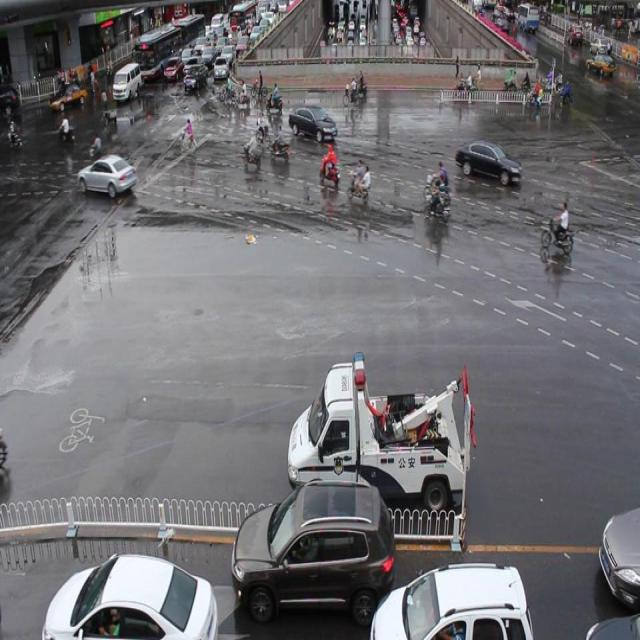bus: (287, 352, 473, 518)
car: (232, 482, 394, 623), (44, 553, 218, 640), (369, 557, 534, 640), (598, 509, 640, 610), (454, 138, 520, 188), (581, 609, 640, 640), (289, 104, 337, 142)
